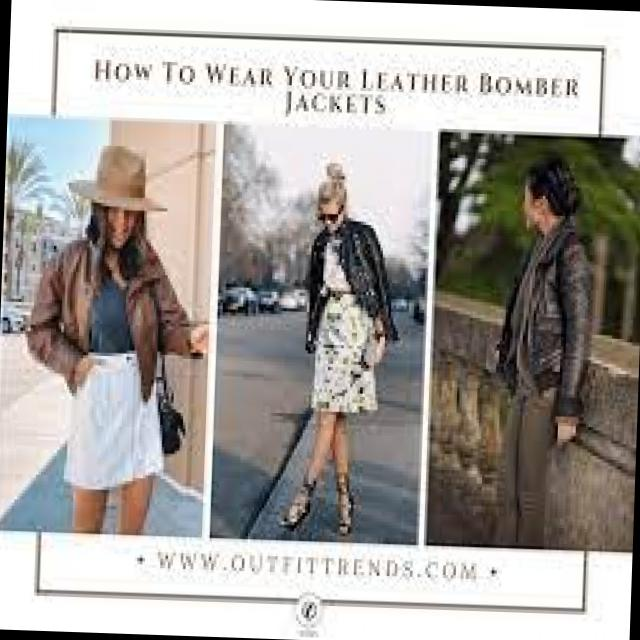Jacket: (16, 218, 212, 427), (488, 225, 602, 424), (286, 226, 409, 370)
